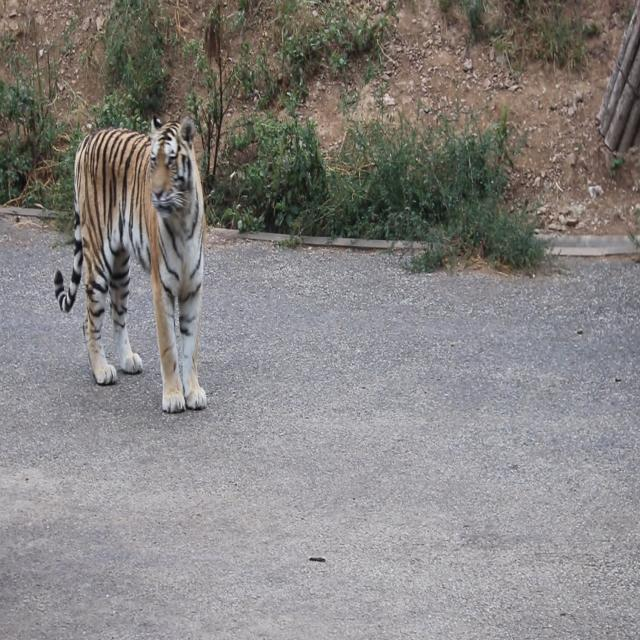Tiger: (51, 100, 227, 432)
